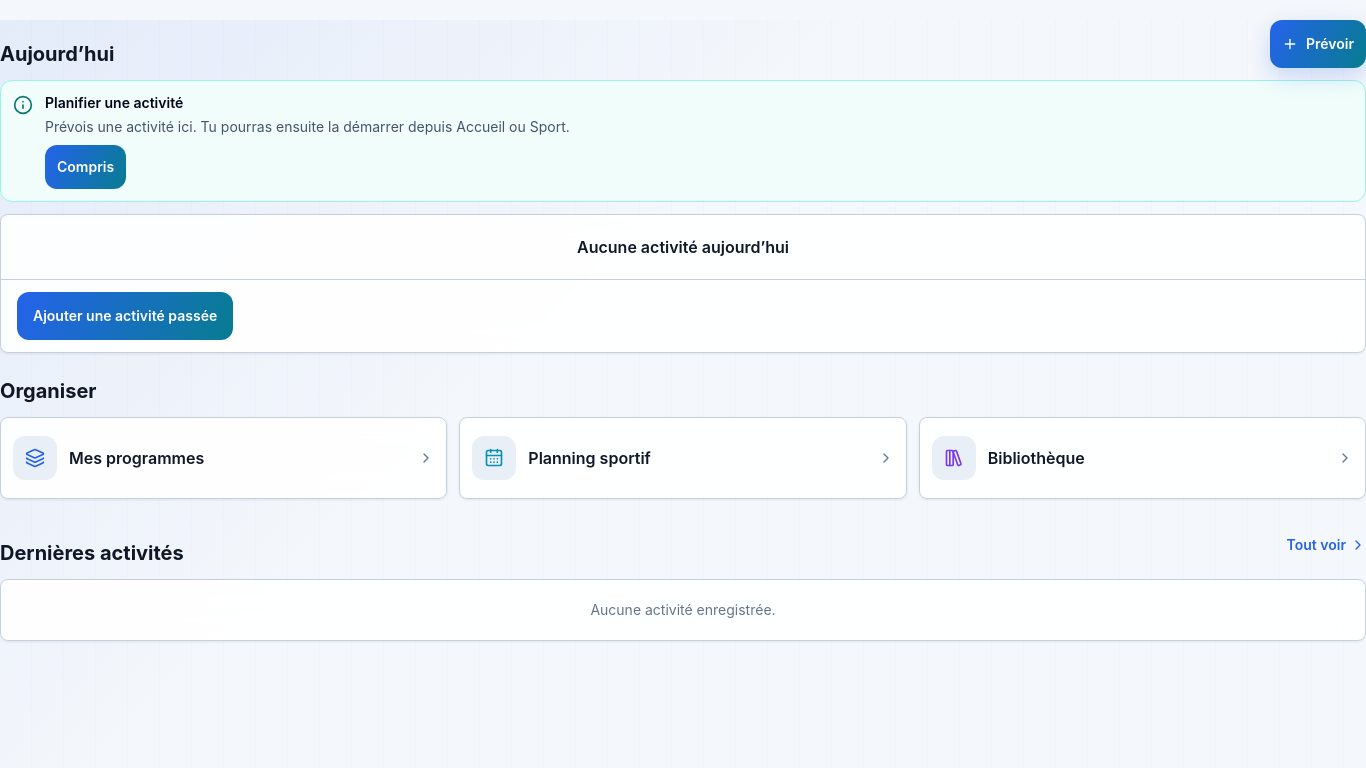
Test: SportHubOverview › propose une vraie création et les hubs d’organisation lorsque le hub est vide
Expected: the text "Aucune activité aujourd’hui" is shown, [577,237,789,257]
Expected: the text "Aucune activité enregistrée." is shown, [590,601,776,618]
Click the button "Mes programmes": (35, 458) [1,418,446,498]
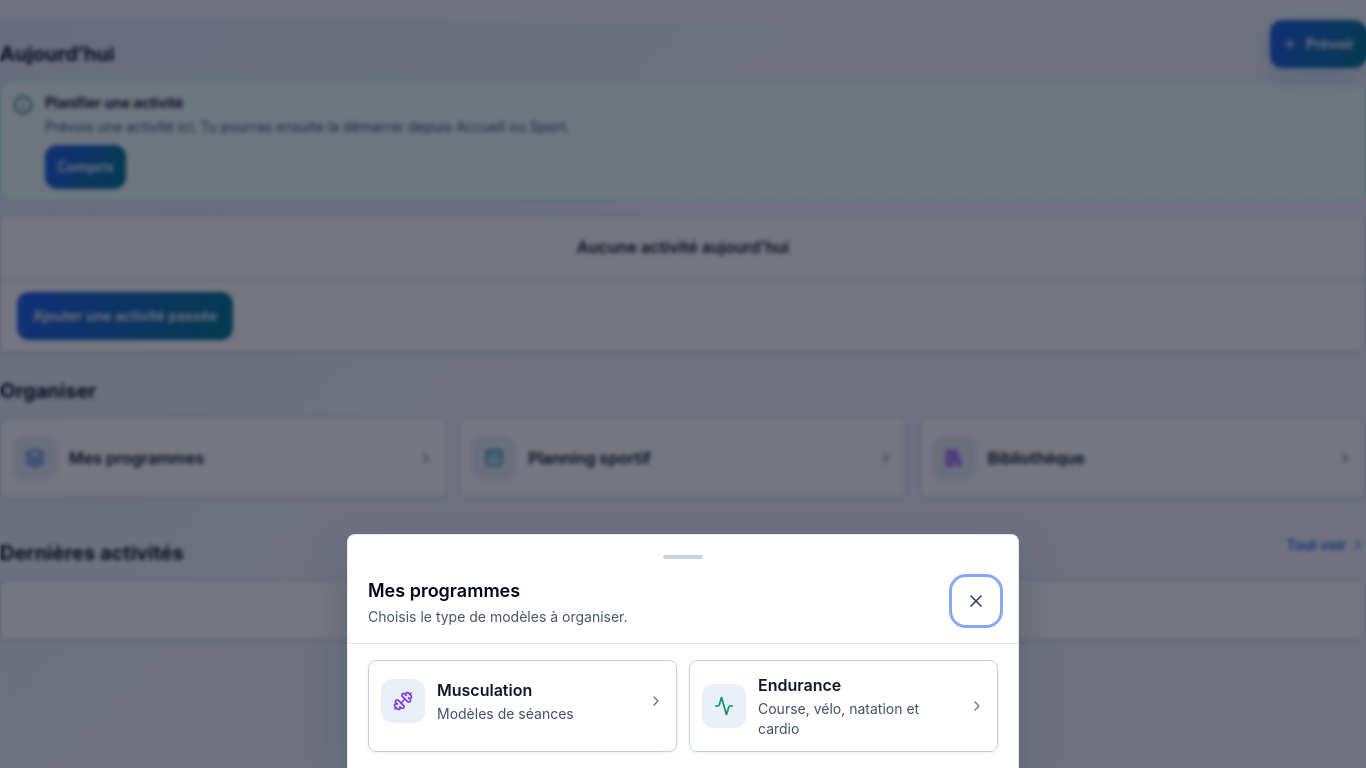
Expected: the dialog "Mes programmes" is shown, [347,534,1019,767]
